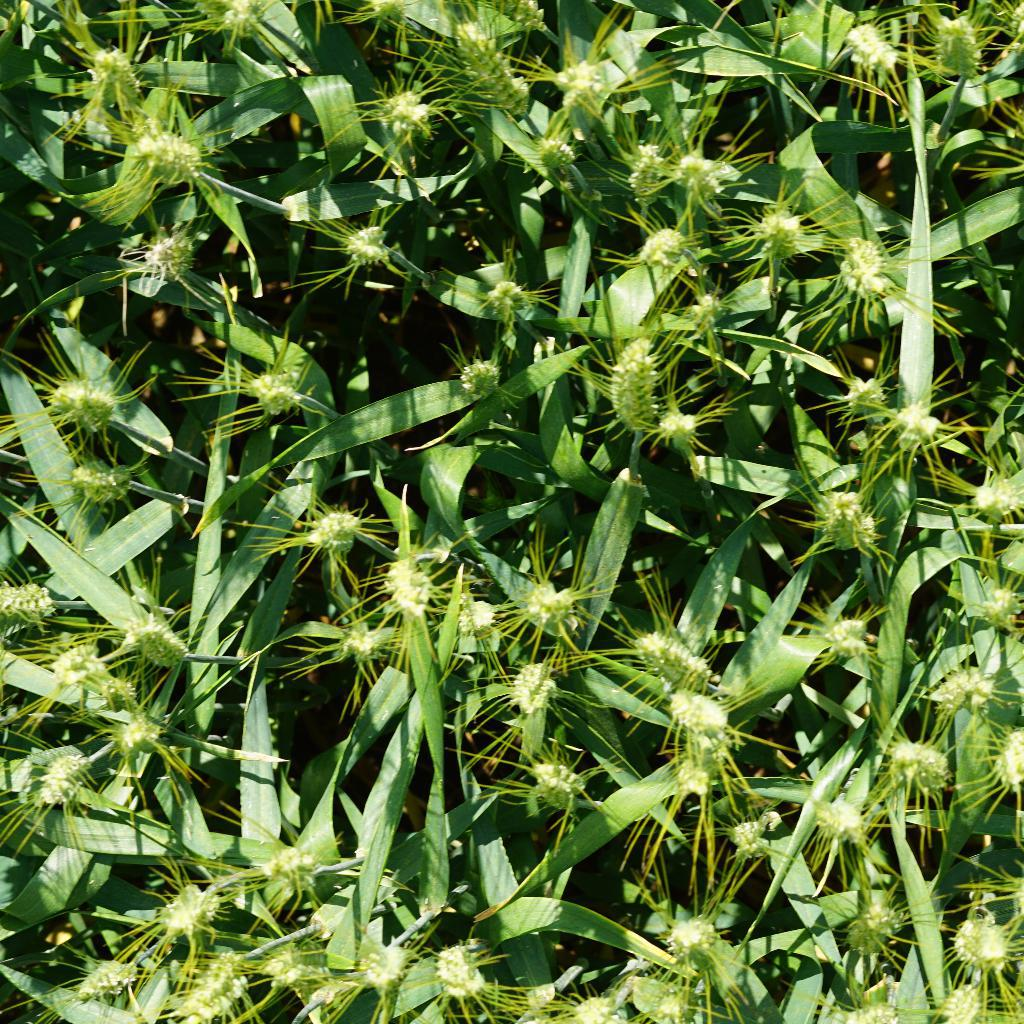0-0: (449, 19, 537, 124), (830, 870, 923, 964), (597, 329, 672, 440), (621, 617, 724, 695), (937, 889, 1021, 974), (156, 950, 250, 1024), (242, 933, 337, 1000), (878, 718, 956, 796), (118, 604, 204, 672), (152, 871, 239, 938), (127, 123, 215, 189), (38, 362, 123, 429), (70, 934, 154, 1000), (811, 479, 882, 555), (837, 11, 905, 86), (17, 744, 97, 807), (833, 227, 899, 302), (508, 570, 585, 634), (78, 36, 150, 104), (239, 351, 310, 419), (965, 460, 1024, 541), (512, 744, 583, 811), (879, 397, 961, 455), (473, 265, 542, 331), (662, 901, 740, 959), (378, 73, 444, 141), (654, 684, 739, 736), (920, 4, 983, 73), (63, 449, 135, 508), (335, 216, 400, 281), (653, 399, 724, 458), (668, 740, 732, 804), (828, 354, 888, 422), (437, 948, 505, 1008), (380, 555, 441, 621), (142, 221, 200, 290), (631, 212, 698, 271), (458, 0, 561, 38), (931, 961, 993, 1024), (49, 630, 114, 688), (266, 840, 329, 899), (813, 787, 871, 851), (93, 702, 160, 757), (680, 281, 743, 339), (746, 204, 806, 264), (310, 497, 370, 557), (925, 654, 986, 712), (0, 559, 56, 621), (175, 0, 271, 34), (550, 59, 608, 115), (499, 651, 557, 707), (728, 804, 783, 863), (624, 135, 671, 204), (449, 350, 511, 402), (814, 606, 877, 657), (654, 967, 709, 1024), (451, 587, 505, 645), (358, 940, 413, 993), (989, 713, 1024, 795), (343, 624, 406, 669), (529, 126, 578, 183), (974, 574, 1024, 626), (571, 989, 638, 1024), (677, 148, 721, 201), (90, 675, 144, 717)
